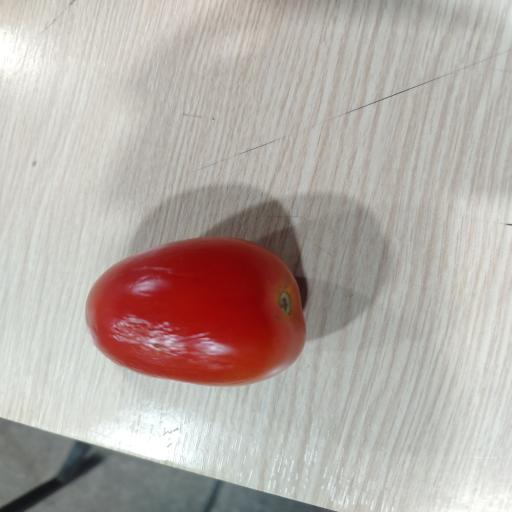spoiled: (86, 237, 305, 385)
